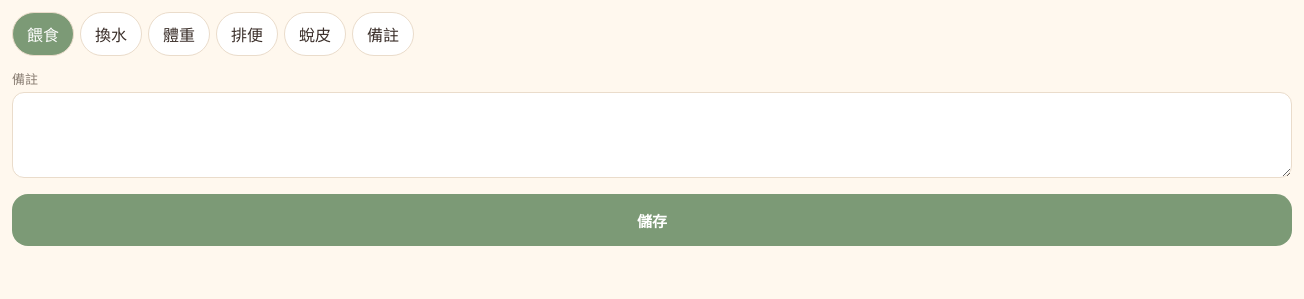
Test: QuickRecordSheet › renders Chinese copy instead of the raw server message
The width and height of the screenshot is (1304, 299).
Click the button "儲存": (652, 220) left=12, top=194, right=1292, bottom=246
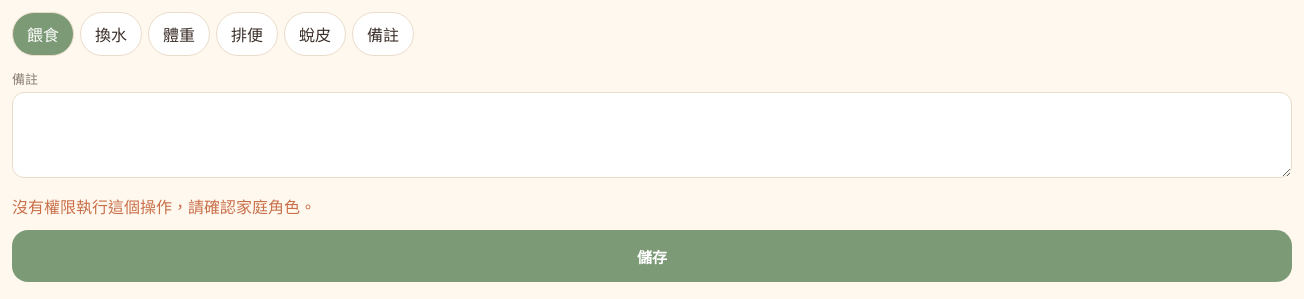
Now the text "沒有權限執行這個操作，請確認家庭角色。" is shown, box left=12, top=197, right=316, bottom=217
